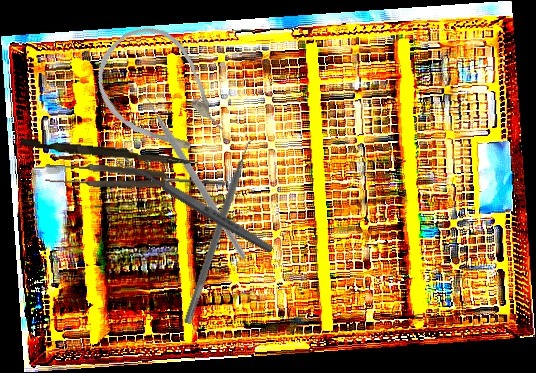Cannula: (77, 9, 244, 179)
Chopper: (97, 79, 298, 261)
Pusher: (19, 138, 200, 166)
Spatula Surgical: (183, 133, 261, 328)
Surgical Spoon: (117, 153, 275, 256)
Tissue Forceps: (44, 161, 228, 196)
